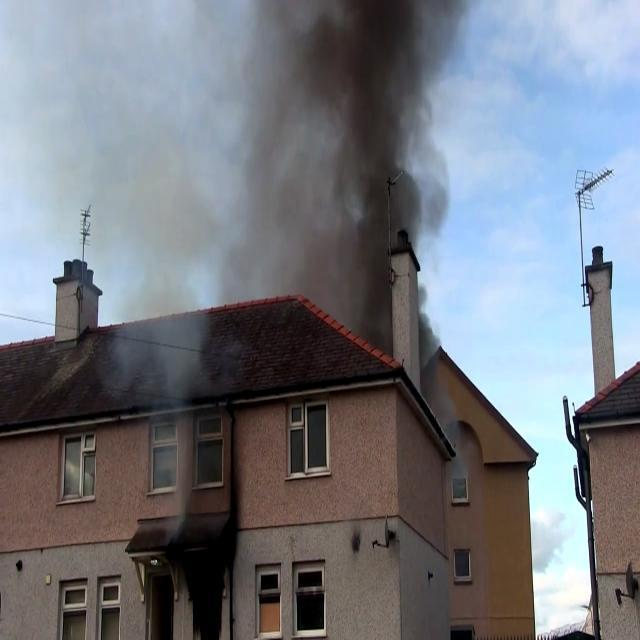Smoke: (86, 0, 254, 422), (258, 0, 449, 347)
